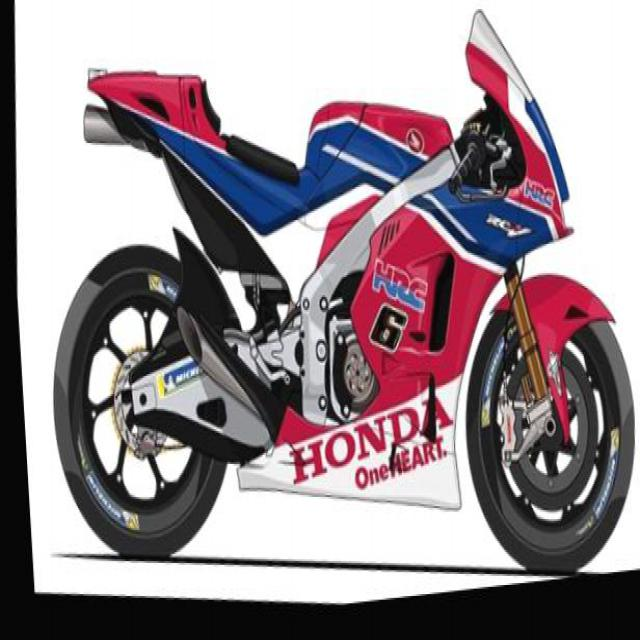HRC RCV 213: (19, 0, 639, 638)
